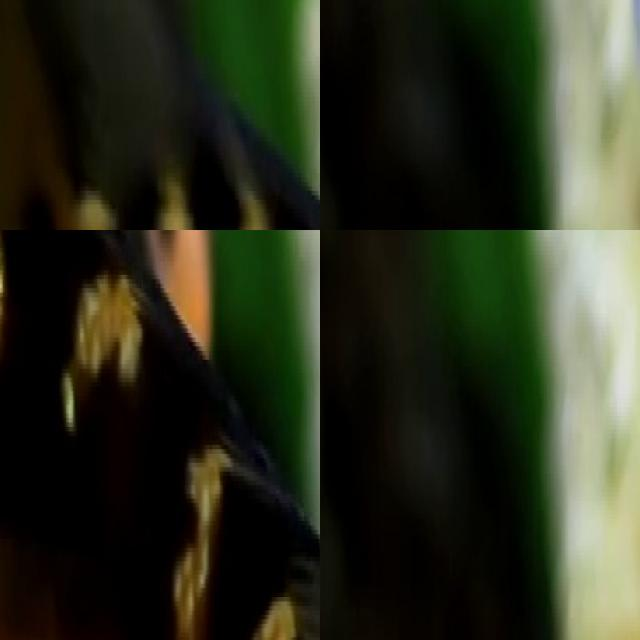fish: (0, 230, 320, 640), (0, 0, 320, 230)
